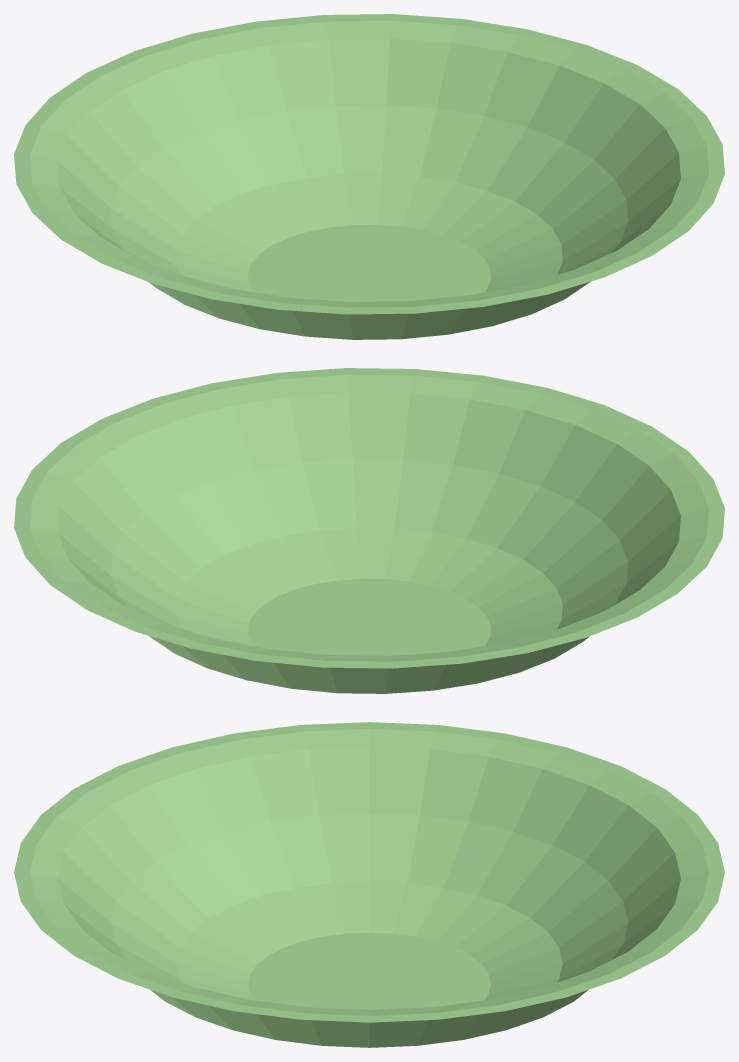
The model's file is Bowl.fbx.
3 views of the same model, one above another, from view 1: azimuth 30°, elevation 25°; view 2: azimuth 150°, elevation 25°; view 3: azimuth 270°, elevation 25° (orthographic).
Visible parts, largest first — view 1: Bowl; view 2: Bowl; view 3: Bowl.
Part boxes in pixels (<box>): Bowl: <box>14,14,724,339</box>; Bowl: <box>14,368,724,693</box>; Bowl: <box>14,722,724,1047</box>.
Bounding box in the file's own units: 239 × 43.03 × 239.
